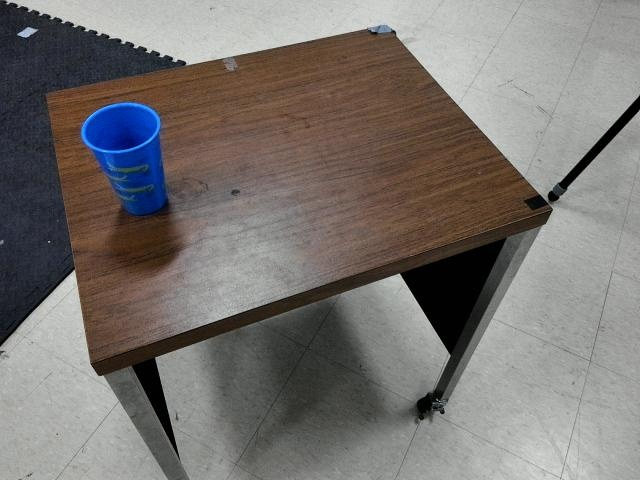water_cup: (77, 90, 172, 226)
